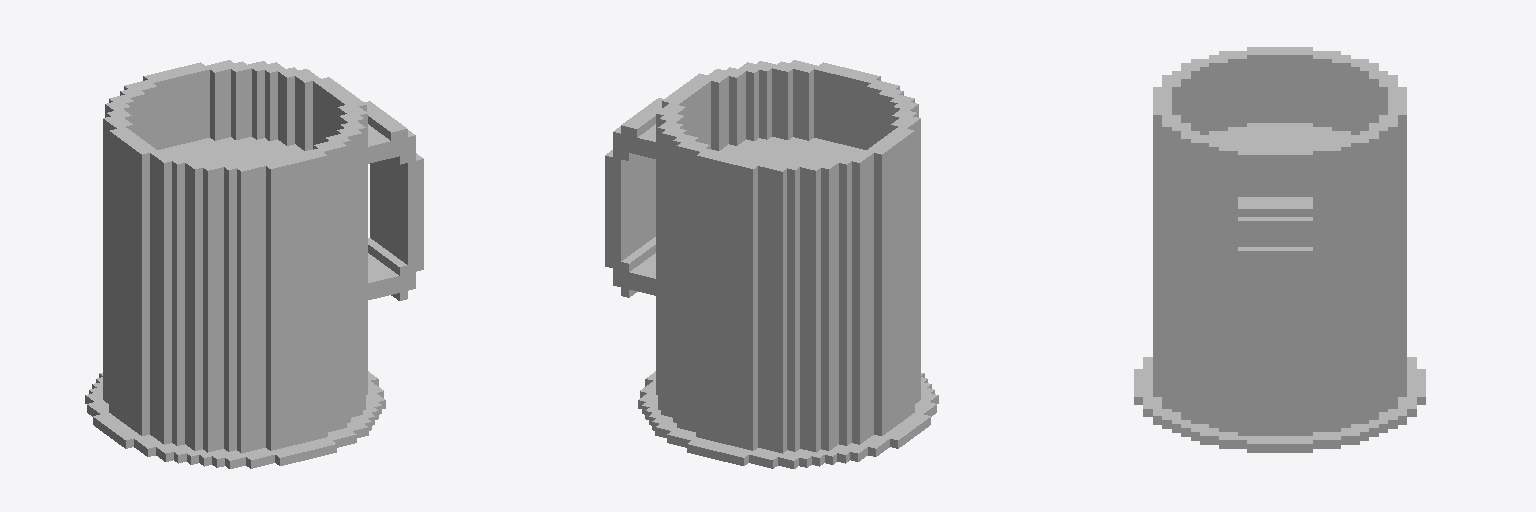
File: beer.obj
The picture shows the model from 3 angles: view 1: azimuth 30°, elevation 25°; view 2: azimuth 150°, elevation 25°; view 3: azimuth 270°, elevation 25°; orthographic projection.
Bounding box in the file's own units: 36 × 34 × 31.